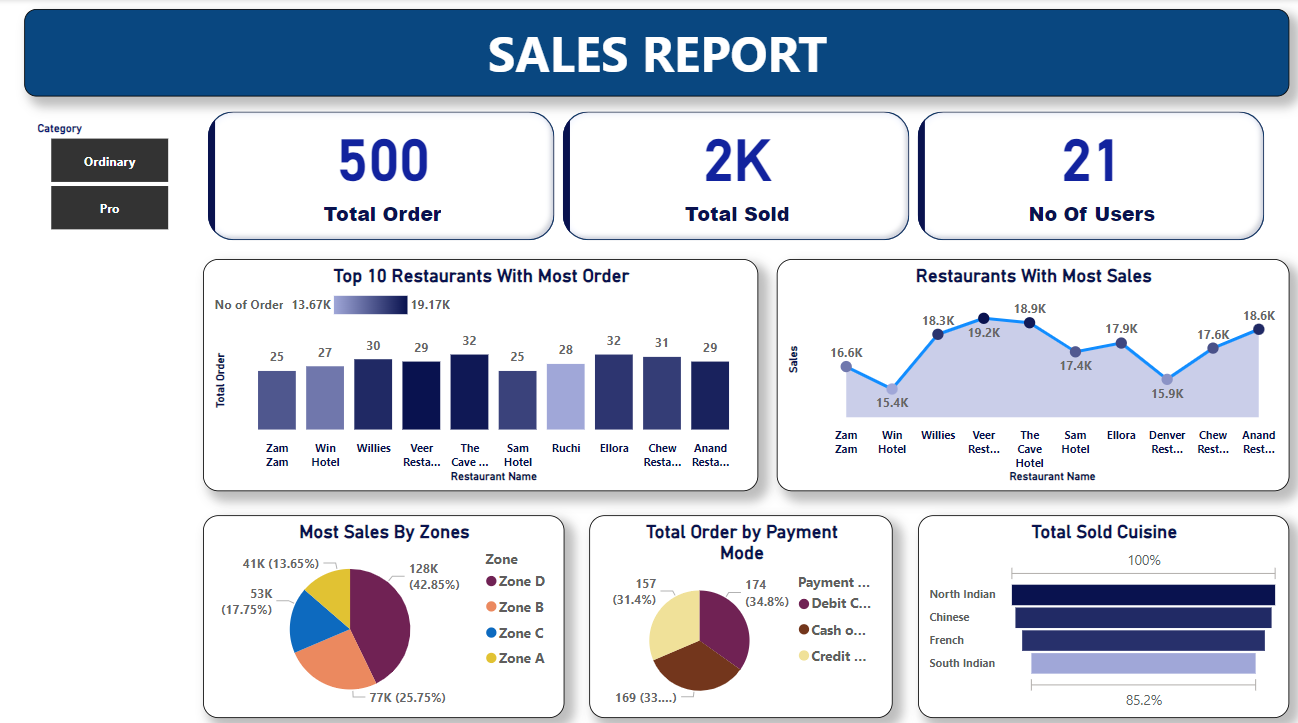

The page's visual inventory and layout, read from the dashboard file:
{"tool":"powerbi","page":{"name":"Page 1","canvas":[1280,720],"ordinal":0},"visuals":[{"type":"cardVisual","fields":{"Data":["Orders.Total Order","Orders.Total Sold","Orders.No Of Users"]},"box":[200.5,105.2,1045.5,137],"z":0},{"type":"textbox","box":[13.5,18.3,1249.7,86.8],"z":1000},{"type":"textbox","box":[25.7,9.8,1237.5,85.6],"z":2000},{"type":"clusteredColumnChart","title":"Top 10 Restaurants With Most Order","fields":{"Category":["Orders.RestaurantName"],"Y":["Orders.Total Order"]},"box":[200.5,254.3,542.9,227.4],"z":3000},{"type":"pieChart","title":"Most Sales By Zones","fields":{"Category":["Orders.Zone"],"Y":["Sum(Orders.Order Amount)"]},"box":[200.5,505,353.4,198.1],"z":4000},{"type":"lineChart","title":"Restaurants With Most Sales ","fields":{"Category":["Orders.RestaurantName"],"Y":["Sum(Orders.Order Amount)"]},"box":[761.8,254.3,501.4,227.4],"z":5000},{"type":"pieChart","fields":{"Category":["Orders.Payment Mode"],"Y":["Orders.Total Order"]},"box":[578.4,505,297.1,198.1],"z":6000},{"type":"funnel","title":"Total Sold Cuisine","fields":{"Category":["Orders.Cuisine"],"Y":["Orders.Total Sold"]},"box":[900,505,363.2,198.1],"z":7000},{"type":"slicer","fields":{"Values":["Orders.Category"]},"box":[25.7,114.9,165.1,117.4],"z":8000}]}

Visuals, with their boxes in screenshot pixels (x1, y1, x2, y2), scaled from the page's 1280x720 canvas onto the 1298x723 screenshot:
cardVisual - Orders.Total Order x Orders.Total Sold: {"x1": 203, "y1": 106, "x2": 1264, "y2": 243}
textbox: {"x1": 14, "y1": 18, "x2": 1281, "y2": 106}
textbox: {"x1": 26, "y1": 10, "x2": 1281, "y2": 96}
"Top 10 Restaurants With Most Order" clusteredColumnChart: {"x1": 203, "y1": 255, "x2": 754, "y2": 484}
"Most Sales By Zones" pieChart: {"x1": 203, "y1": 507, "x2": 562, "y2": 706}
"Restaurants With Most Sales " lineChart: {"x1": 773, "y1": 255, "x2": 1281, "y2": 484}
pieChart - Orders.Payment Mode x Orders.Total Order: {"x1": 587, "y1": 507, "x2": 888, "y2": 706}
"Total Sold Cuisine" funnel: {"x1": 913, "y1": 507, "x2": 1281, "y2": 706}
slicer - Orders.Category: {"x1": 26, "y1": 115, "x2": 193, "y2": 233}
